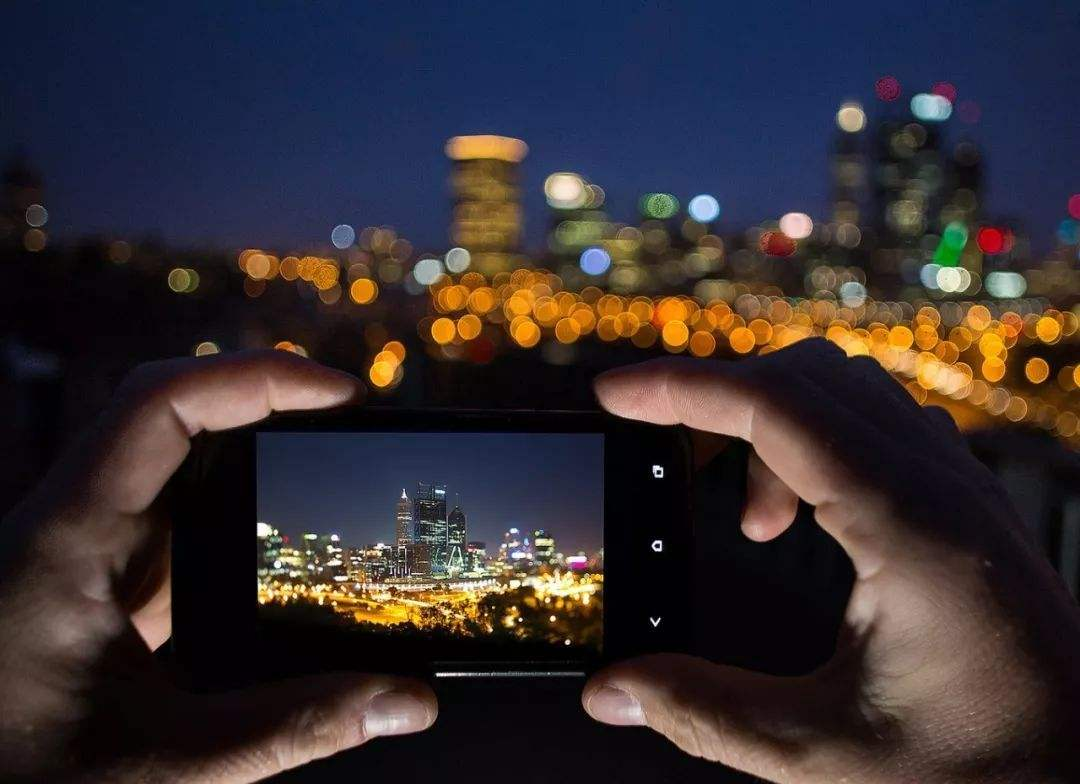taking photos: (21, 335, 1066, 774)
